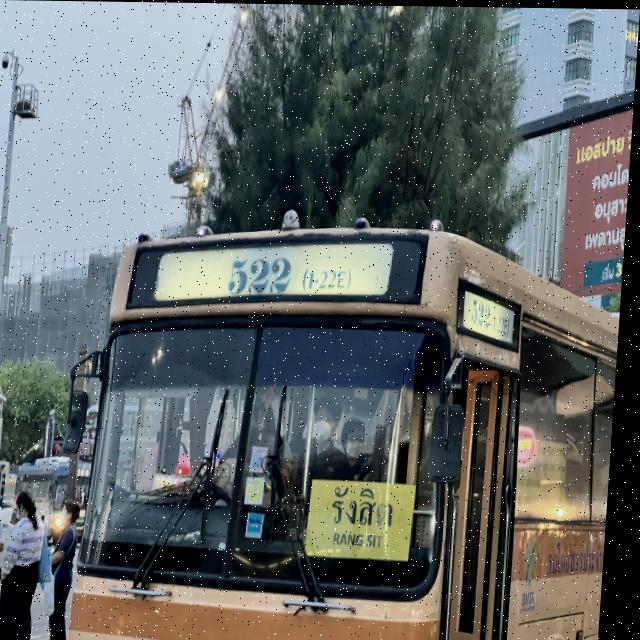BMTA-bus: (61, 192, 630, 640)
Bus Line Number: (220, 245, 363, 298)
Destination Sign: (318, 481, 427, 563)
